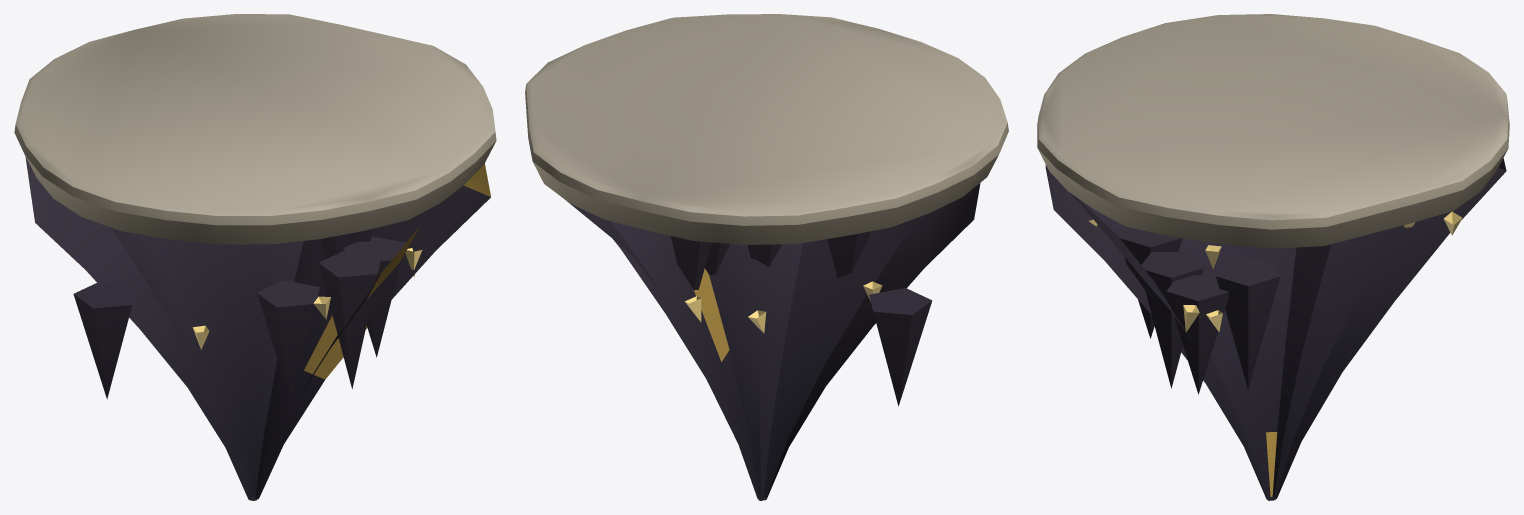
The model's file is asgard_island.glb.
3 renders of one model, left to right at view 1: azimuth 30°, elevation 25°; view 2: azimuth 150°, elevation 25°; view 3: azimuth 270°, elevation 25°, orthographic.
Parts seen in each view (by area): view 1: asgard_island, asgard_island_glow; view 2: asgard_island, asgard_island_glow; view 3: asgard_island, asgard_island_glow.
Part boxes in pixels (x1,y1,x2,y2): asgard_island: [14, 14, 496, 500]; asgard_island_glow: [192, 248, 422, 349]; asgard_island: [525, 14, 1008, 500]; asgard_island_glow: [685, 281, 882, 333]; asgard_island: [1037, 14, 1509, 500]; asgard_island_glow: [1088, 211, 1462, 332].
Bounding box in the file's own units: 2.02 × 1.75 × 1.95.
